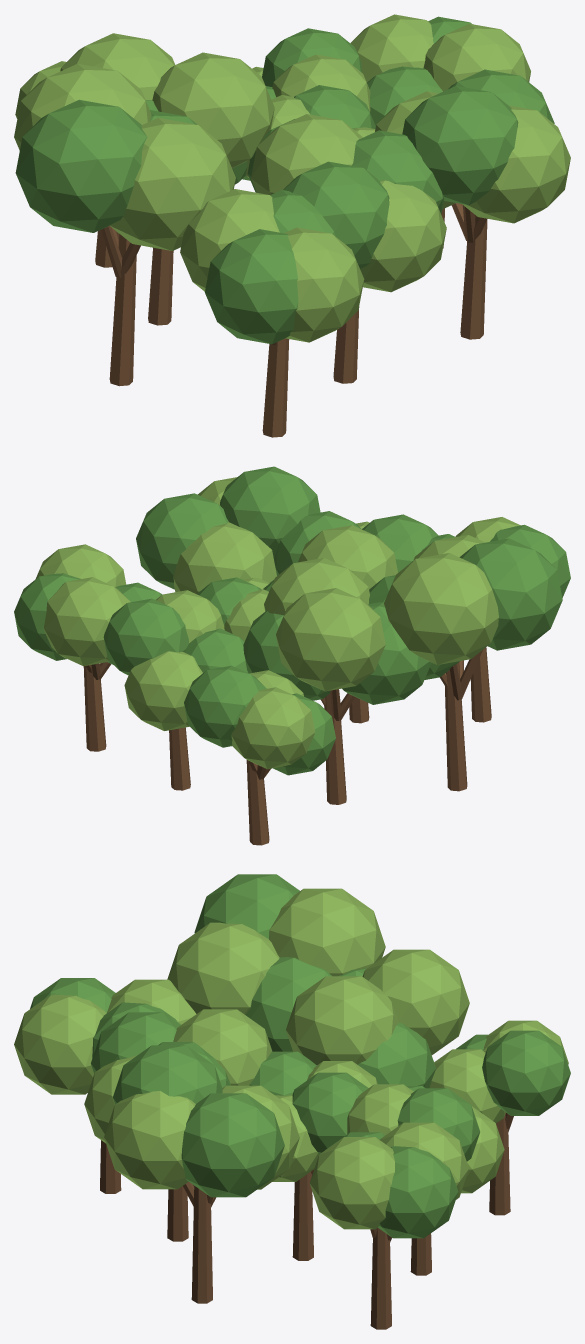
File: FEATURE_FOREST_v00.fbx
3 views of the same model, one above another, from view 1: azimuth 30°, elevation 25°; view 2: azimuth 150°, elevation 25°; view 3: azimuth 270°, elevation 25° (orthographic). The views are drawn at different scales.
Parts seen in each view (by area): view 1: Broadleaf_crown.018, Broadleaf_crown.019, Broadleaf_crown.022, Broadleaf_crown.030, Broadleaf_crown.007, Broadleaf_crown.023, Broadleaf_crown.031, Broadleaf_crown.011, Broadleaf_crown.010, Broadleaf_crown.009, Broadleaf_crown.017, Broadleaf_crown.029 (+20 smaller); view 2: Broadleaf_crown.017, Broadleaf_crown.005, Broadleaf_crown.018, Broadleaf_crown.022, Broadleaf_crown.033, Broadleaf_crown.025, Broadleaf_crown.021, Broadleaf_crown.020, Broadleaf_crown.012, Broadleaf_crown.013, Broadleaf_crown.024, Broadleaf_crown.006 (+24 smaller); view 3: Broadleaf_crown.020, Broadleaf_crown.007, Broadleaf_crown.017, Broadleaf_crown.019, Broadleaf_crown.031, Broadleaf_crown.023, Broadleaf_crown.005, Broadleaf_crown.035, Broadleaf_crown.024, Broadleaf_crown.032, Broadleaf_crown.022, Broadleaf_crown.009 (+26 smaller).
Boxes of the visible parts, x1,y1,x2,y2 form: Broadleaf_crown.018: (15,99,147,232); Broadleaf_crown.019: (110,117,235,250); Broadleaf_crown.022: (402,86,518,205); Broadleaf_crown.030: (205,229,298,344); Broadleaf_crown.007: (152,52,274,167); Broadleaf_crown.023: (462,105,570,223); Broadleaf_crown.031: (284,227,364,342); Broadleaf_crown.011: (360,180,446,292); Broadleaf_crown.010: (283,161,389,269); Broadleaf_crown.009: (251,114,362,194); Broadleaf_crown.017: (14,63,151,150); Broadleaf_crown.029: (180,189,279,291); Broadleaf_crown.017: (384,553,498,664); Broadleaf_crown.005: (276,588,385,691); Broadleaf_crown.018: (459,538,562,650); Broadleaf_crown.022: (220,466,320,557); Broadleaf_crown.033: (44,577,130,666); Broadleaf_crown.025: (231,687,315,769); Broadleaf_crown.021: (173,522,276,594); Broadleaf_crown.020: (136,493,228,589); Broadleaf_crown.012: (103,598,188,675); Broadleaf_crown.013: (124,651,202,730); Broadleaf_crown.024: (184,665,266,747); Broadleaf_crown.006: (342,602,431,704); Broadleaf_crown.020: (181,1093,284,1197); Broadleaf_crown.007: (286,976,398,1064); Broadleaf_crown.017: (269,888,385,976); Broadleaf_crown.019: (167,922,279,1014); Broadleaf_crown.031: (14,994,106,1094); Broadleaf_crown.023: (104,1091,195,1189); Broadleaf_crown.005: (362,949,469,1054); Broadleaf_crown.035: (309,1137,394,1229); Broadleaf_crown.024: (482,1030,570,1115); Broadleaf_crown.032: (378,1146,458,1238); Broadleaf_crown.022: (113,1045,222,1104); Broadleaf_crown.009: (173,1009,272,1085).
Size of the model in its own units: 132 by 67.04 by 127.
